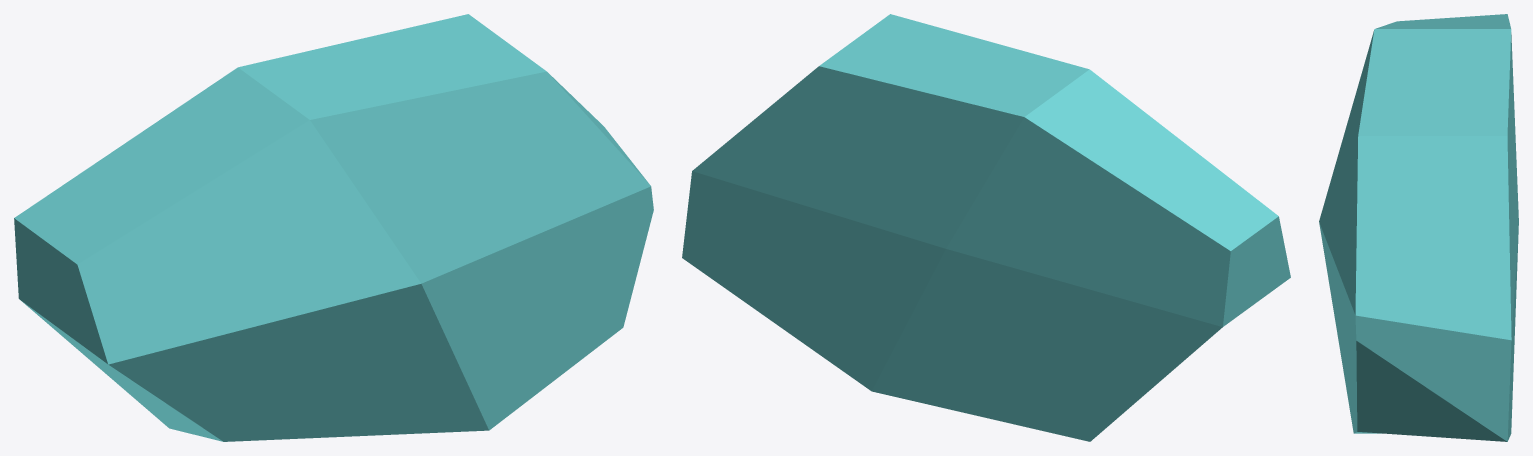
The model's file is MagicStone1.fbx.
The picture shows the model from 3 angles, left to right: view 1: azimuth 30°, elevation 25°; view 2: azimuth 150°, elevation 25°; view 3: azimuth 270°, elevation 25°; orthographic projection. The views are drawn at different scales.
Parts seen in each view (by area): view 1: cristal1; view 2: cristal1; view 3: cristal1.
Boxes of the visible parts, x1,y1,x2,y2 form: cristal1: (14,14,653,441); cristal1: (682,14,1290,441); cristal1: (1319,14,1518,441).
Bounding box in the file's own units: 81.35 × 44.14 × 24.49.
